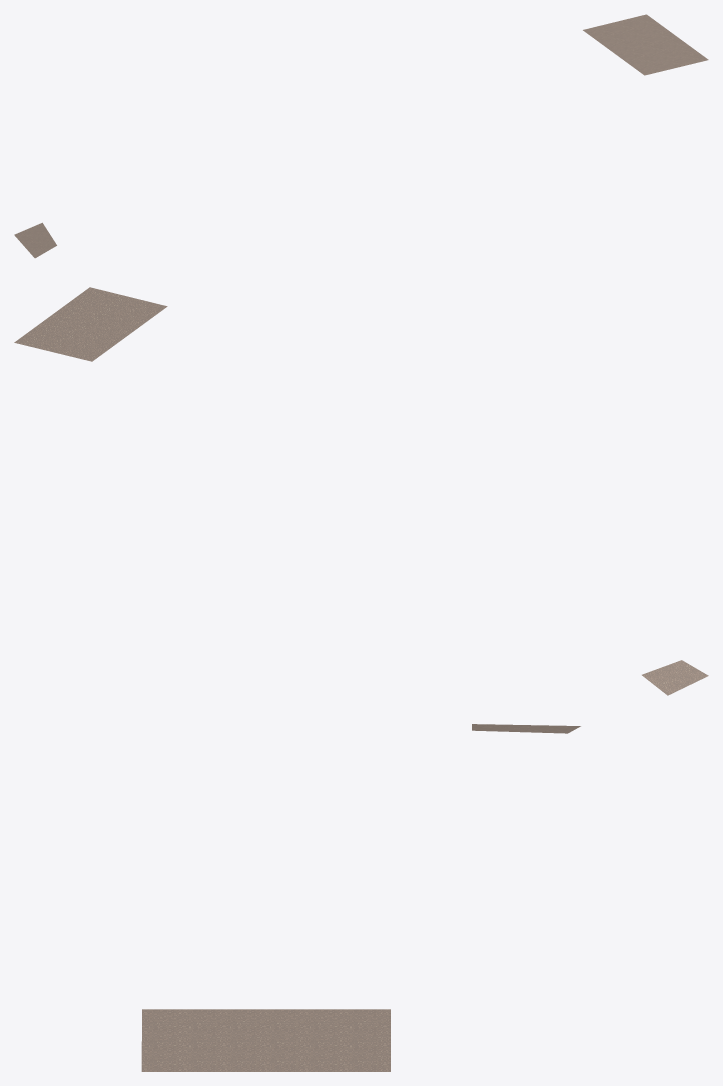
The model's file is kd_stage_1366d7_0_19.glb.
3 renders of one model, top to bottom at view 1: azimuth 30°, elevation 25°; view 2: azimuth 150°, elevation 25°; view 3: azimuth 270°, elevation 25°, orthographic. The views are drawn at different scales.
Parts seen in each view (by area): view 1: kd_stage_1366d7_0_19; view 2: kd_stage_1366d7_0_19; view 3: kd_stage_1366d7_0_19.
Boxes of the visible parts, bbox=[...] form: kd_stage_1366d7_0_19: bbox=[14, 14, 708, 258]; kd_stage_1366d7_0_19: bbox=[14, 287, 708, 695]; kd_stage_1366d7_0_19: bbox=[141, 724, 580, 1071].
Size of the model in its own units: 27.47 by 5.09 by 8.85.
1 material, 1 textured.
